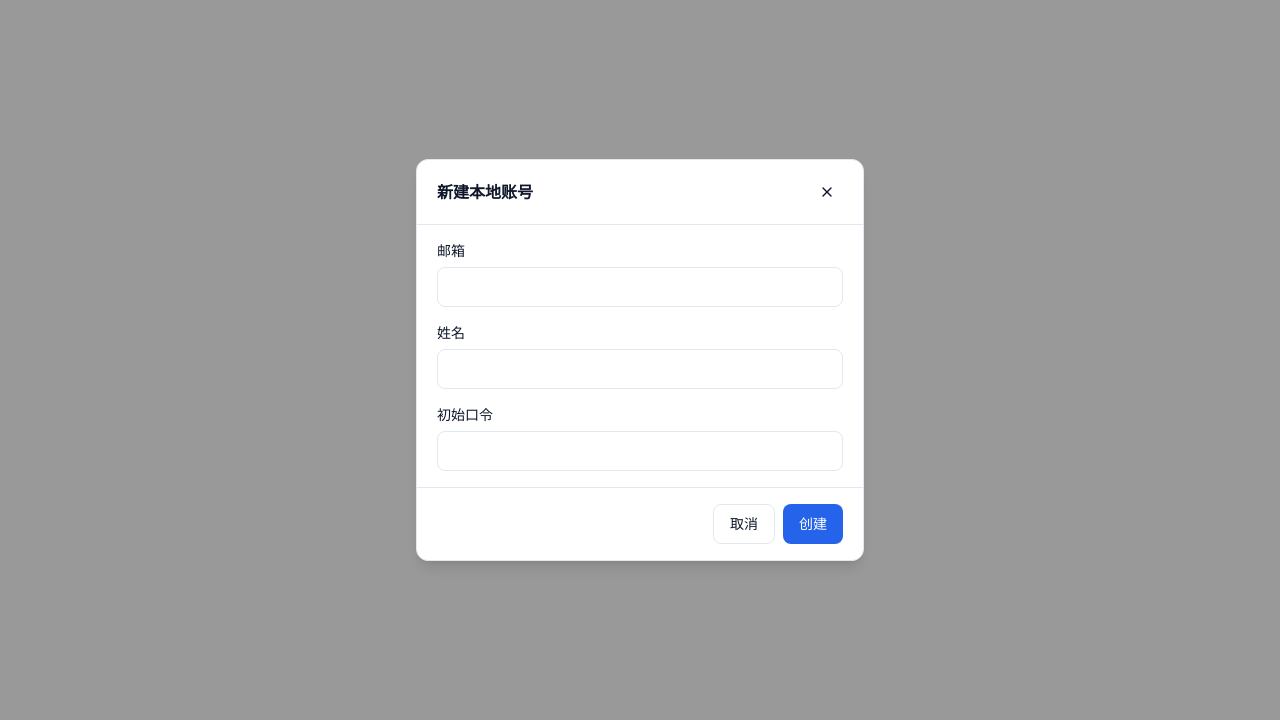
Test: CreateMemberDialog › echoes an out-of-domain email at the email field
Type "new@other.test" into the field labelled "邮箱" at (640, 287), box x1=437 y1=267 x2=843 y2=307
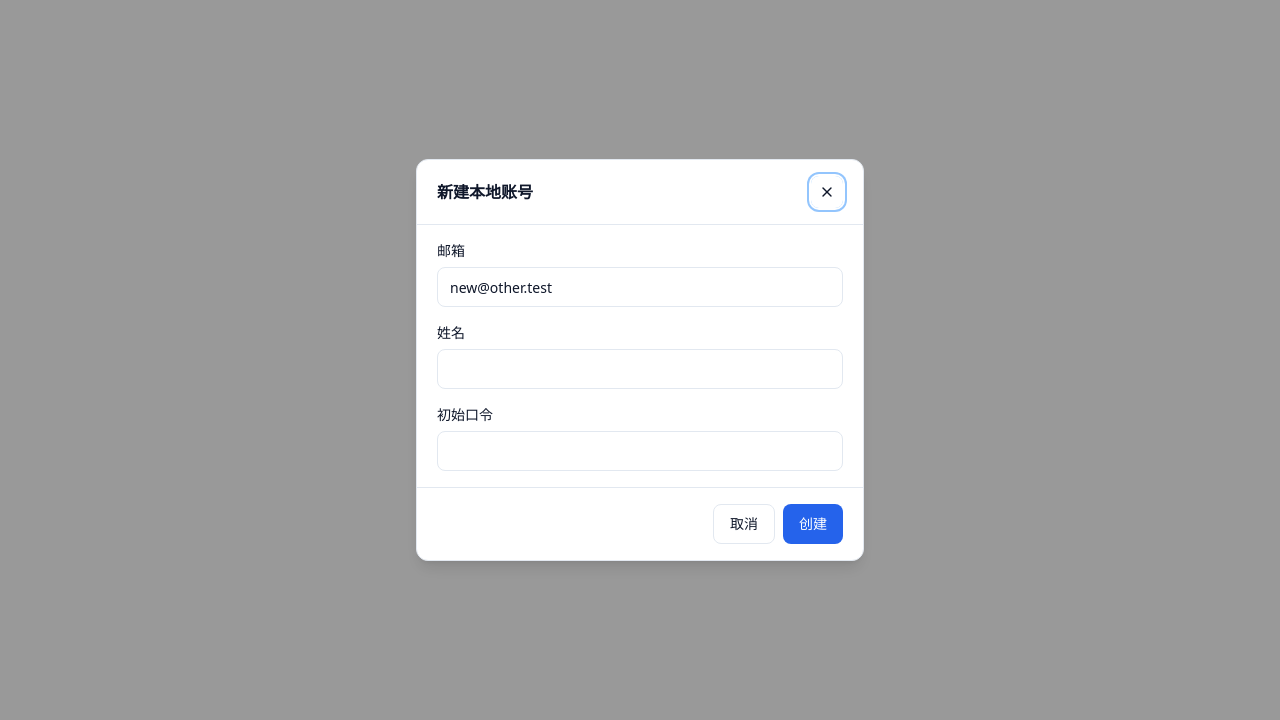
Type "New" into the field labelled "姓名" at (640, 369), box x1=437 y1=349 x2=843 y2=389
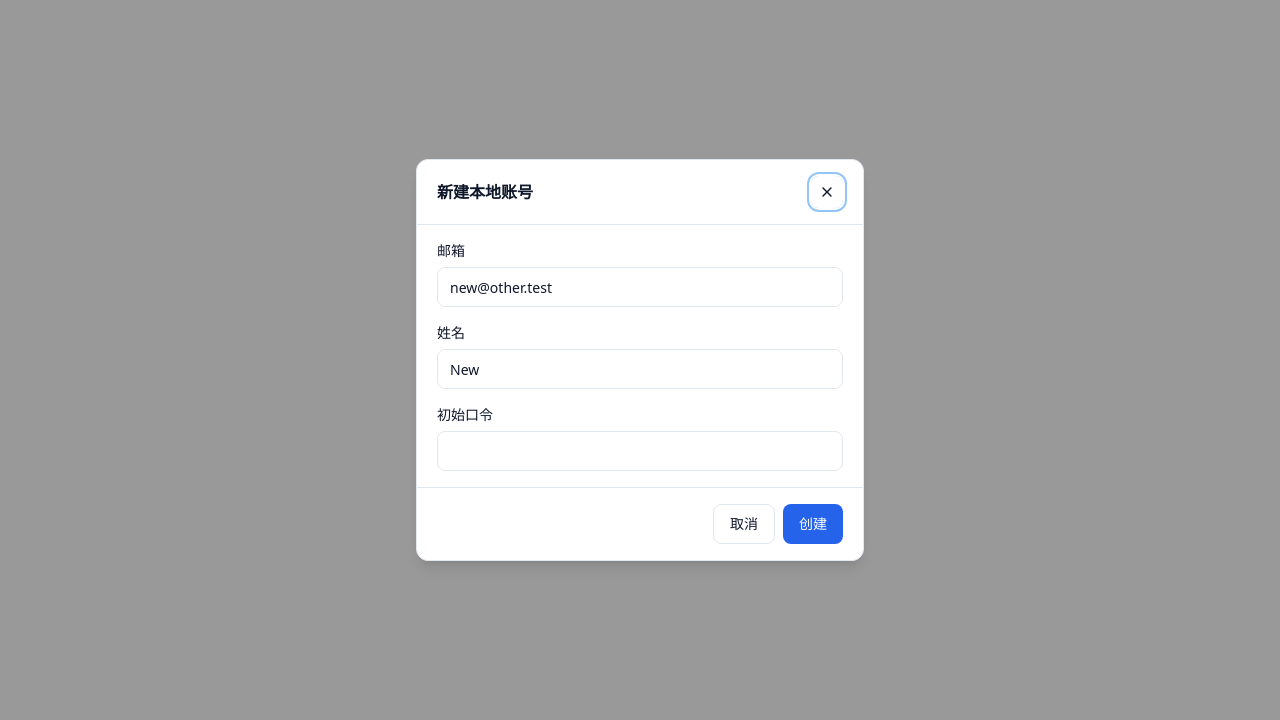
Type "Initial-Pass-1" into the password field labelled "初始口令" at (640, 451), box x1=437 y1=431 x2=843 y2=471
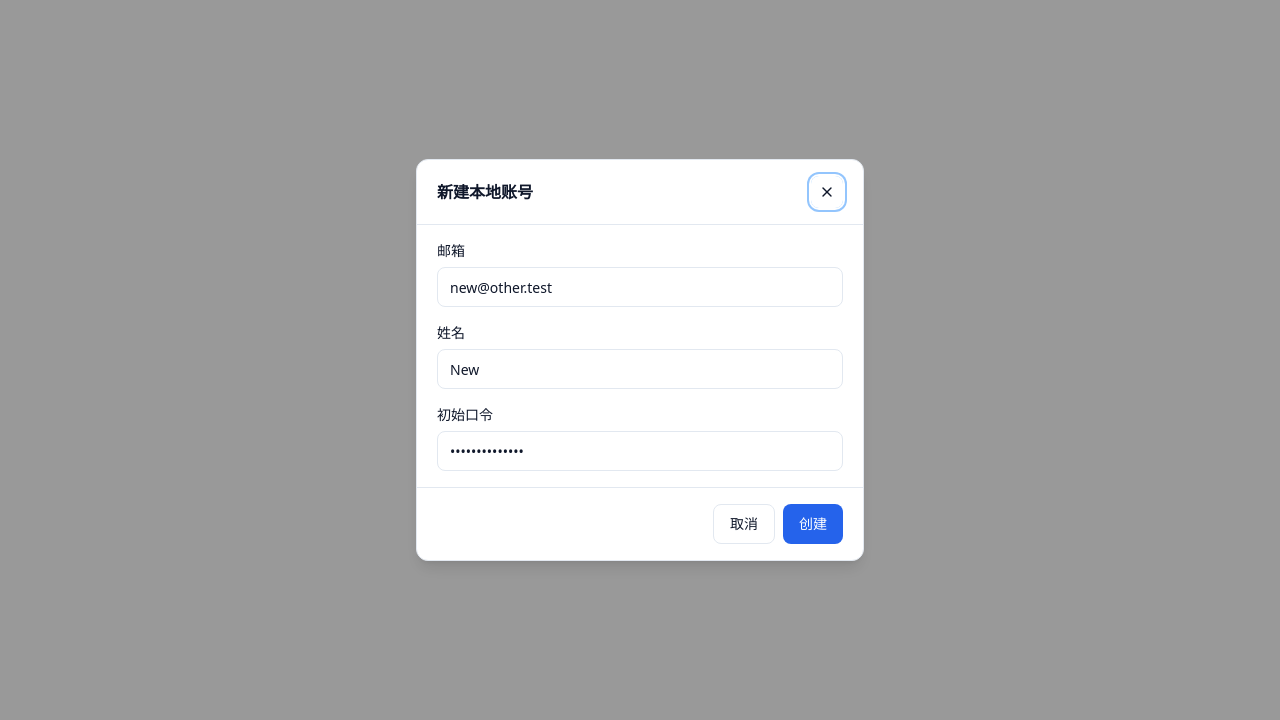
Click the button "创建" at (813, 524), box x1=783 y1=504 x2=843 y2=544
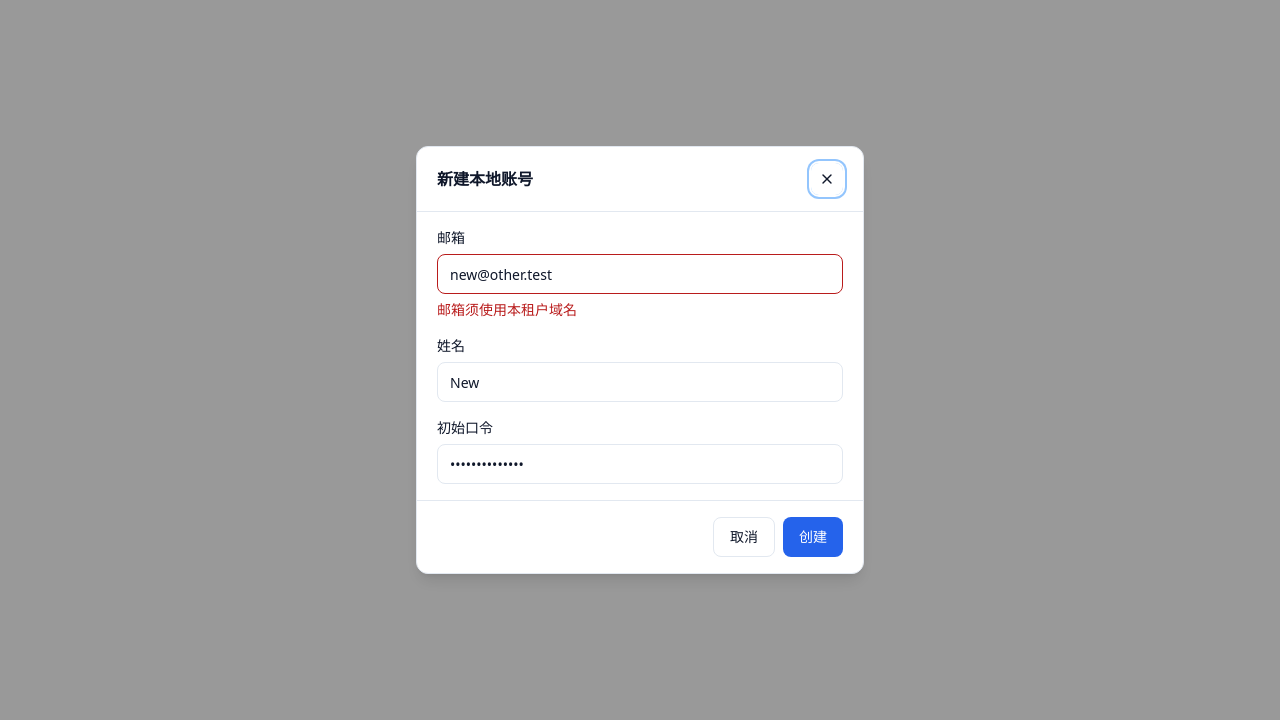
Now the text "邮箱须使用本租户域名" is shown, box x1=437 y1=300 x2=577 y2=319
